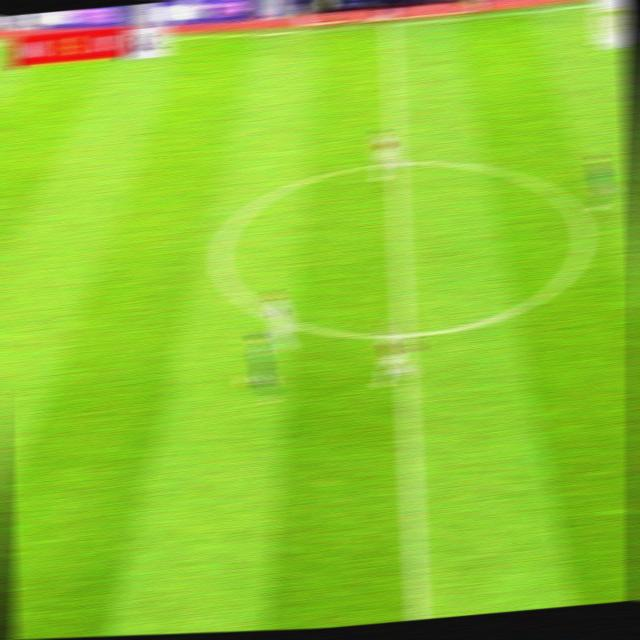halfcircle_bottom: (386, 313, 422, 353)
halfcircle_top: (370, 147, 425, 181)
midline_top_intersection: (375, 9, 406, 41)
